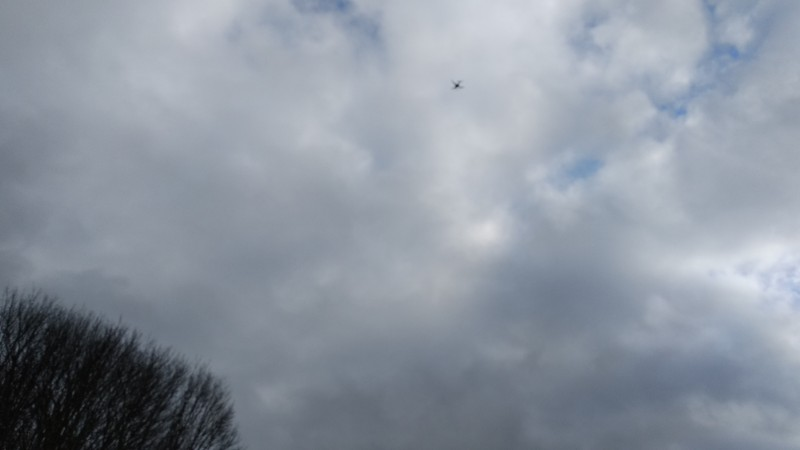drone: (451, 79, 463, 90)
